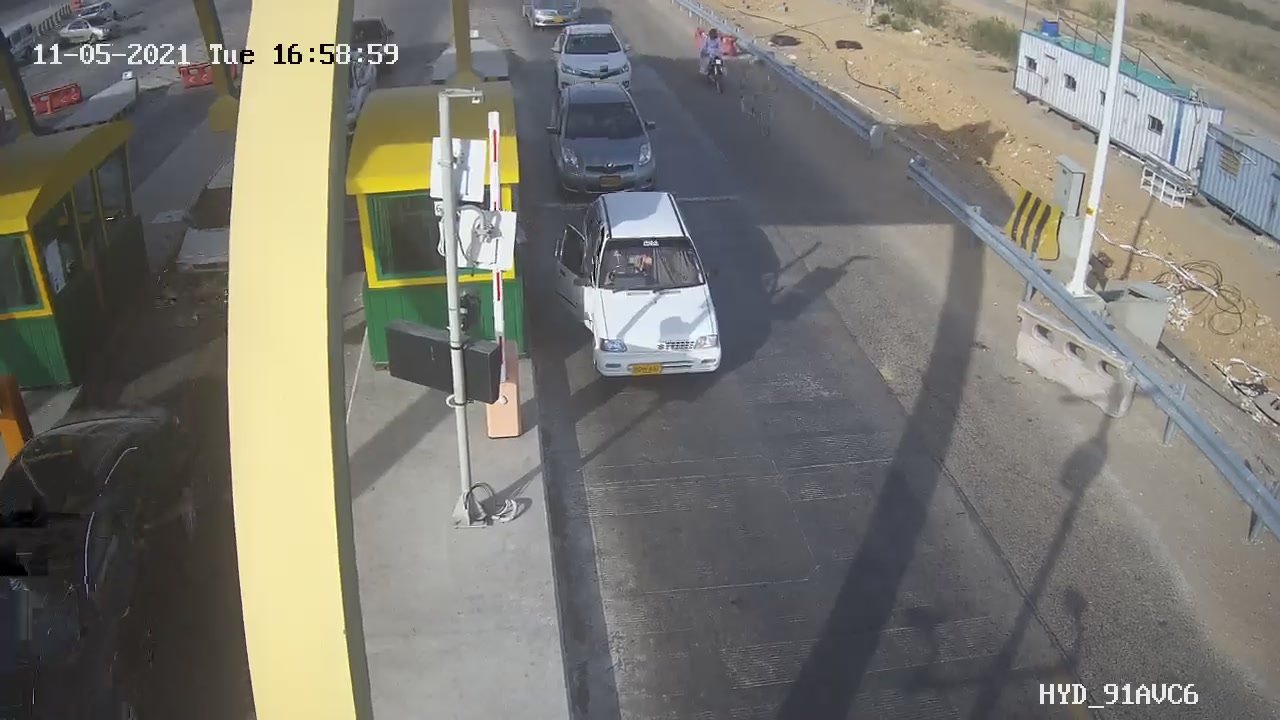F1: (539, 179, 747, 403), (538, 77, 672, 205)
